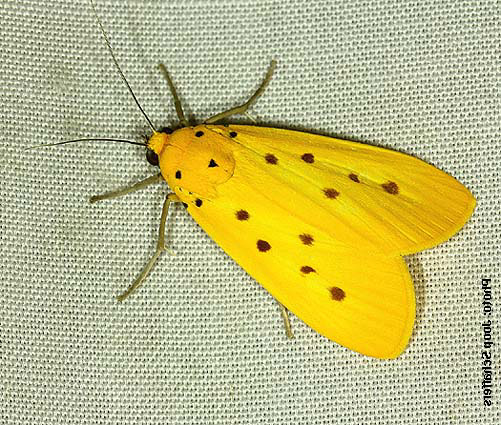Agape chloropyga: (22, 1, 477, 362)
moth: (22, 1, 477, 363)
